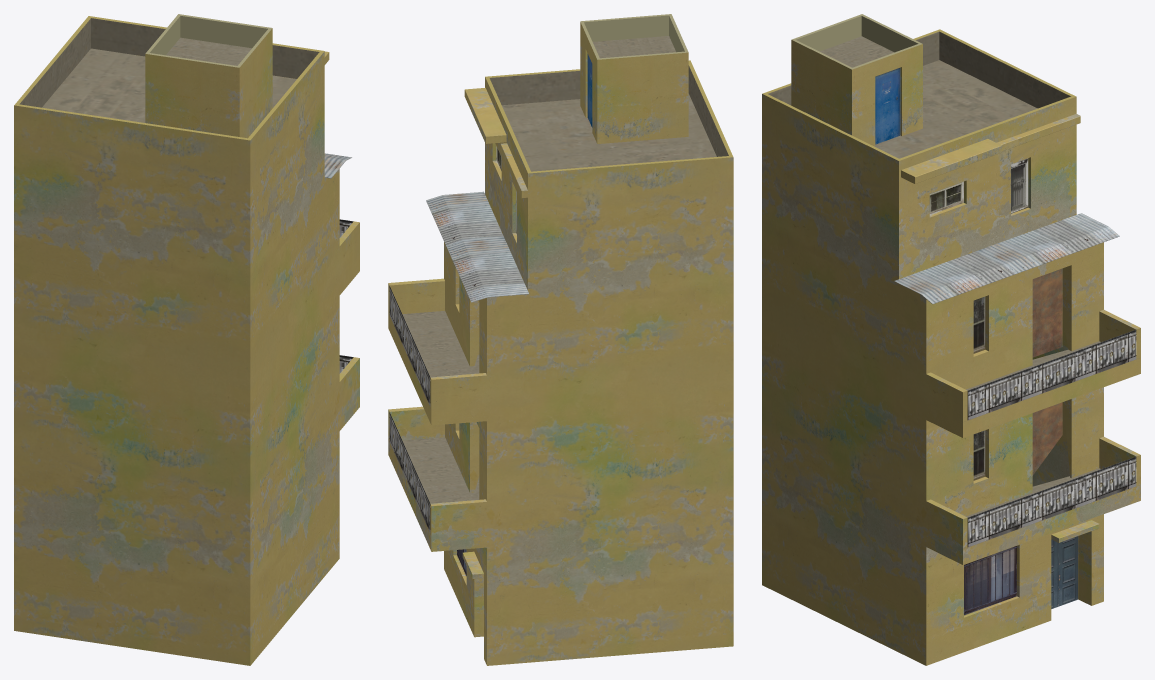
File: indian_style_building.glb
3 renders of one model, left to right at view 1: azimuth 30°, elevation 25°; view 2: azimuth 150°, elevation 25°; view 3: azimuth 270°, elevation 25°, orthographic. The views are drawn at different scales.
Parts seen in each view (by area): view 1: Yellow_Building; view 2: Yellow_Building; view 3: Yellow_Building.
Part boxes in pixels (<box>): Yellow_Building: <box>14,14,359,665</box>; Yellow_Building: <box>388,14,733,665</box>; Yellow_Building: <box>762,14,1140,665</box>.
Size of the model in its own units: 11.04 by 17.25 by 10.81.
2 materials, 2 textured.
